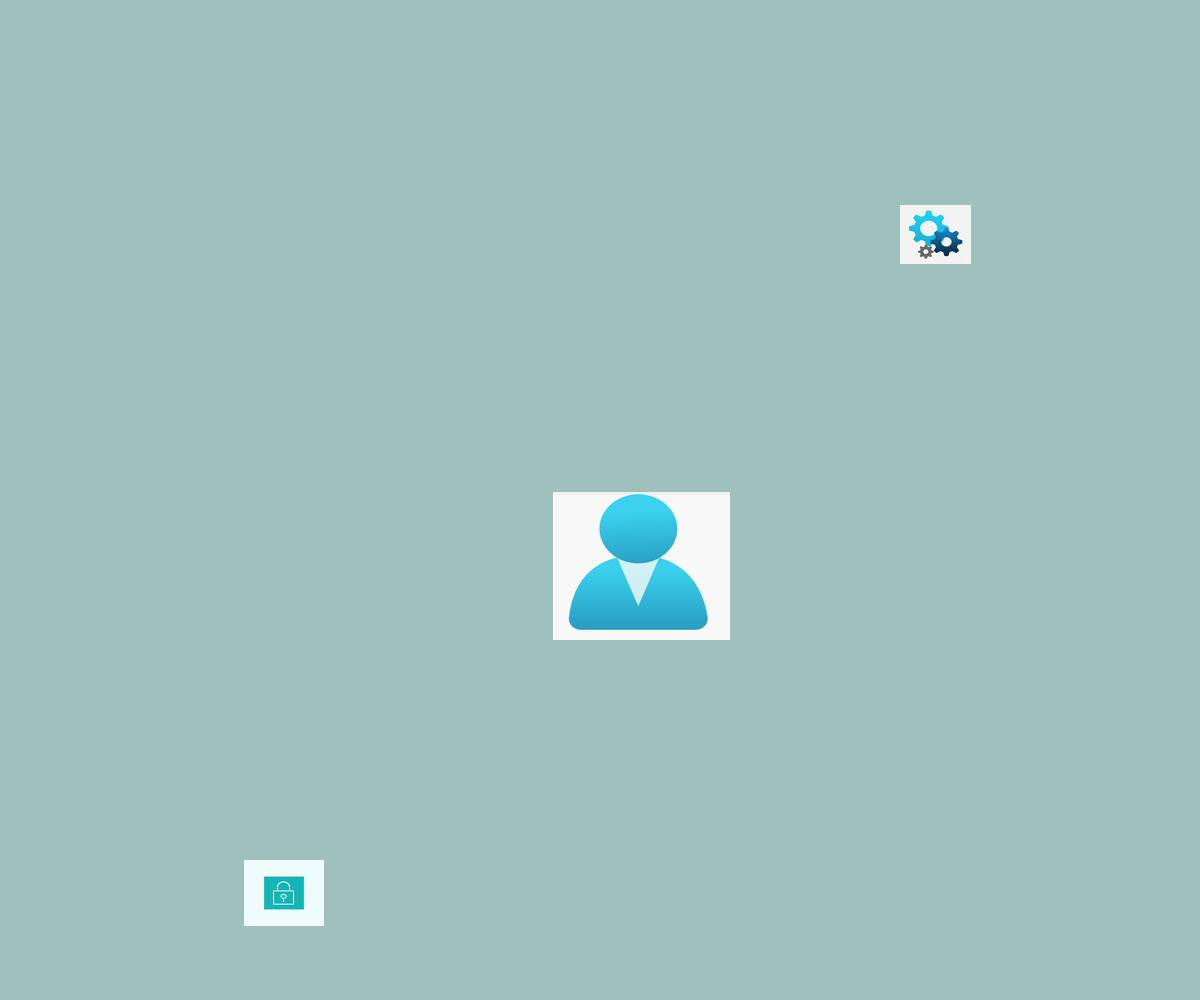AWS-Private-subnet: (244, 860, 324, 926)
Azure_api: (900, 205, 971, 264)
Azure_users: (553, 492, 730, 640)
